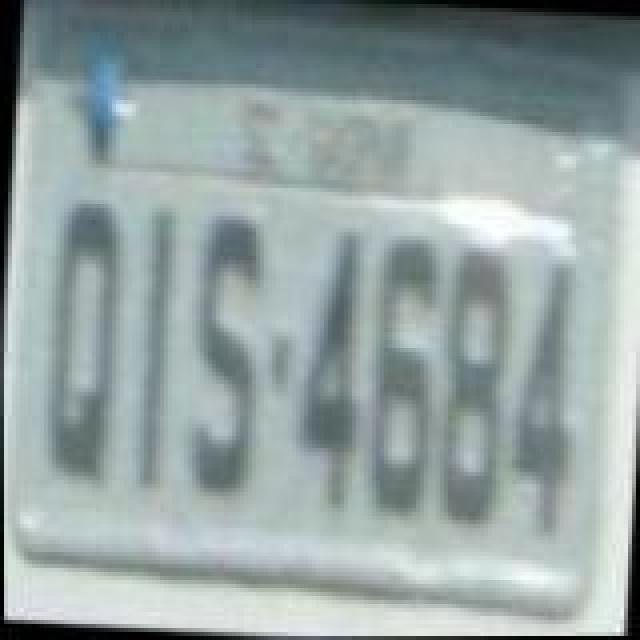1: (130, 198, 178, 486)
4: (282, 216, 374, 516), (500, 244, 588, 548)
6: (360, 220, 440, 516)
8: (430, 230, 514, 530)
Q: (36, 188, 128, 484)
S: (180, 200, 268, 492)
